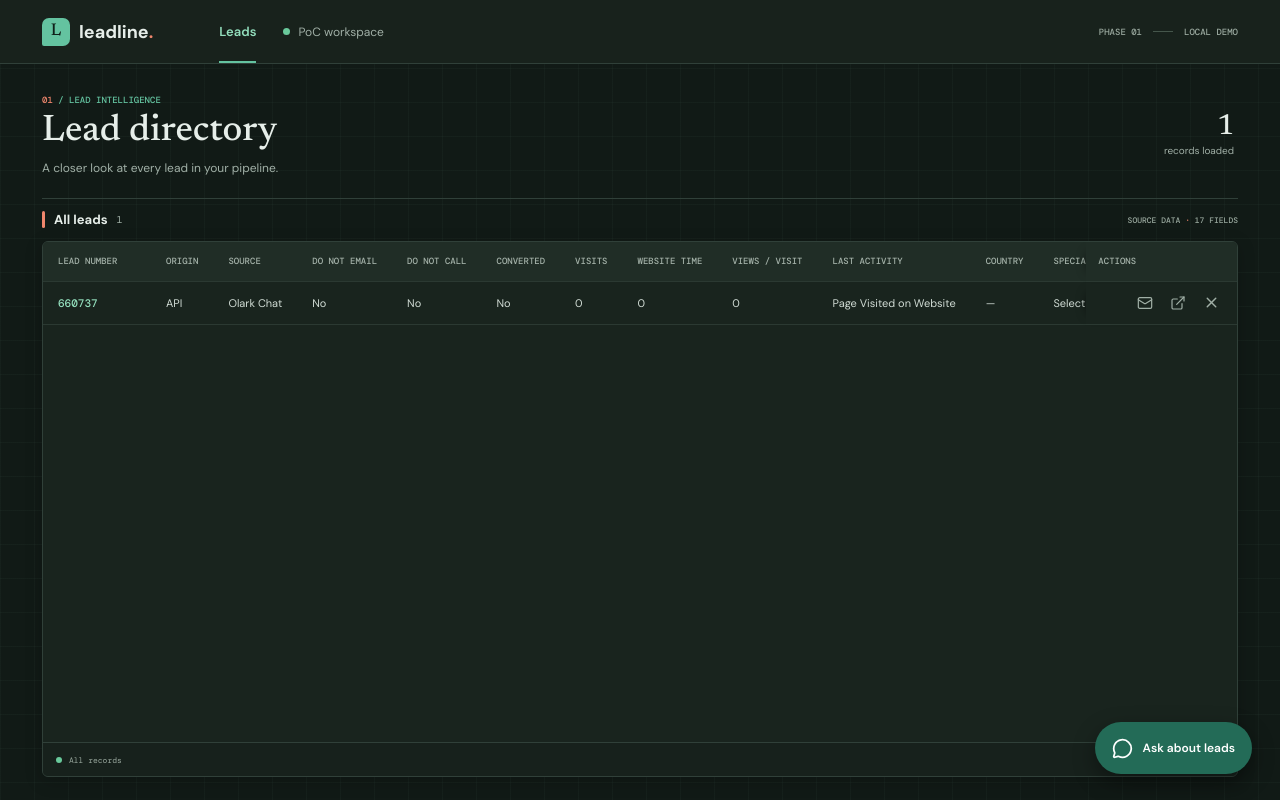
Test: leads dashboard › sends a suggested question when clicked
Click the button with aria-label "Open chat": (1173, 748) [1095, 722, 1252, 774]
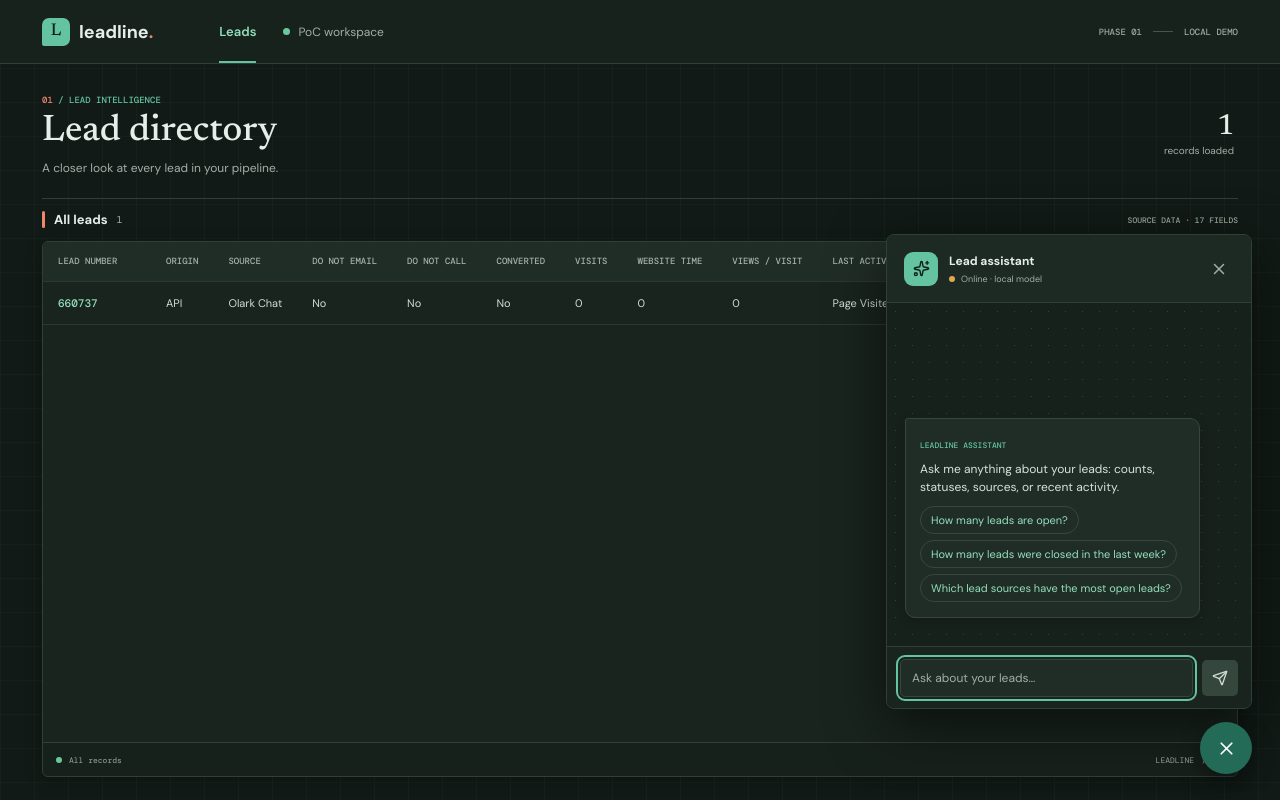
Click the button "How many leads were closed in the last week?": (1049, 554) [920, 540, 1177, 568]
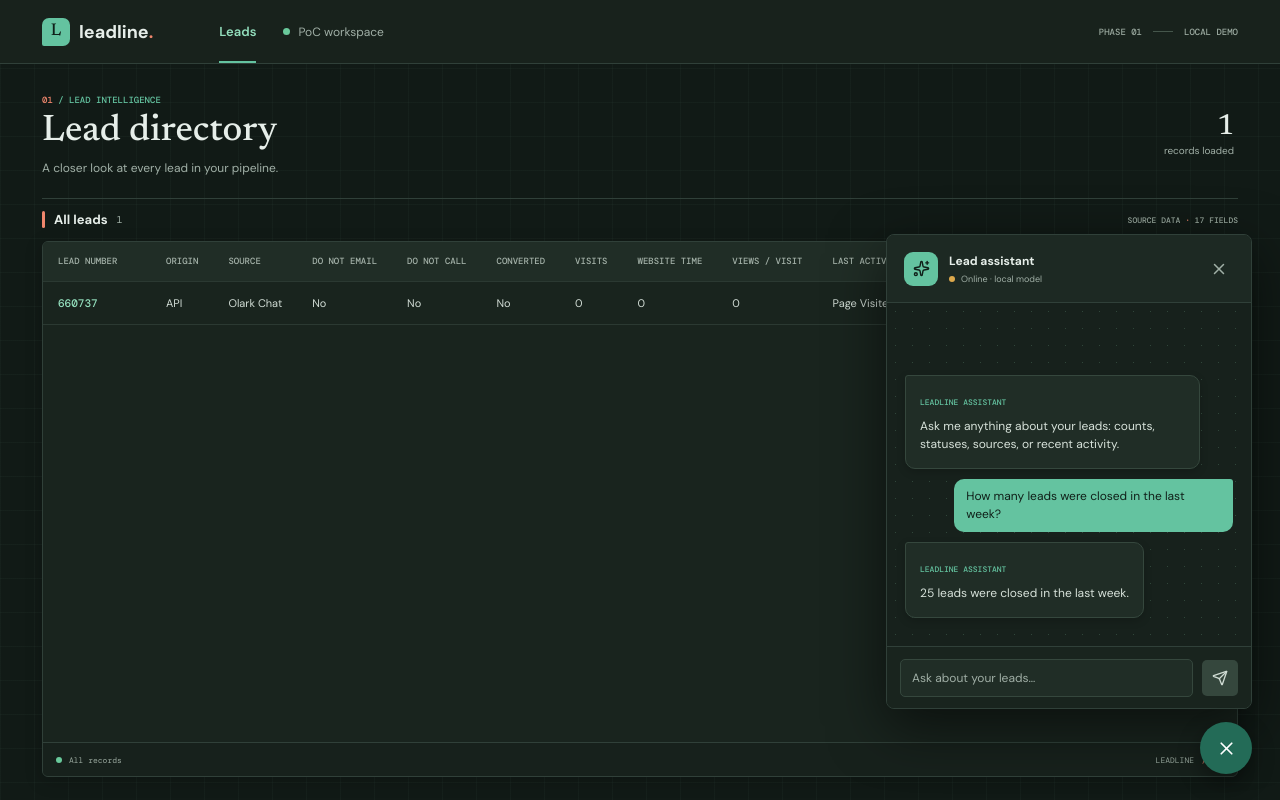
Expected: the text "How many leads were closed in the last week?" is shown, [966, 488, 1221, 523]
Expected: the text "25 leads were closed in the last week." is shown, [920, 584, 1129, 602]
